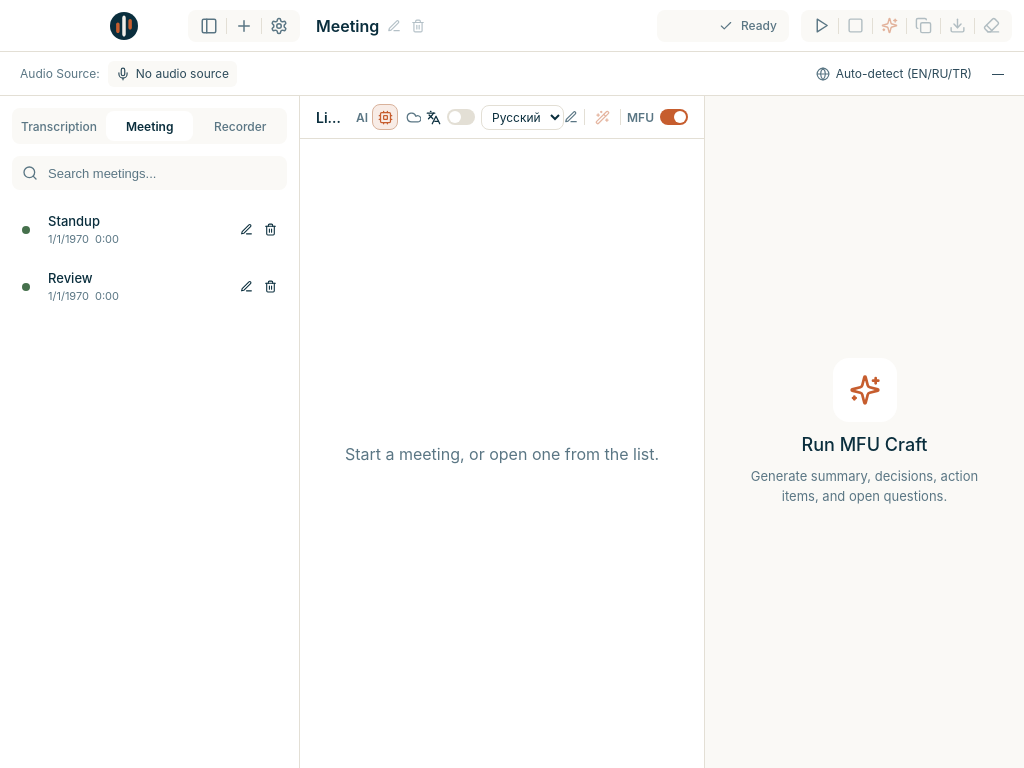
Test case: StreamingView › ignores a late automatic-open error after a manual selection succeeds
Click the button with aria-label "Open Review": (132, 286) [42,269,223,304]
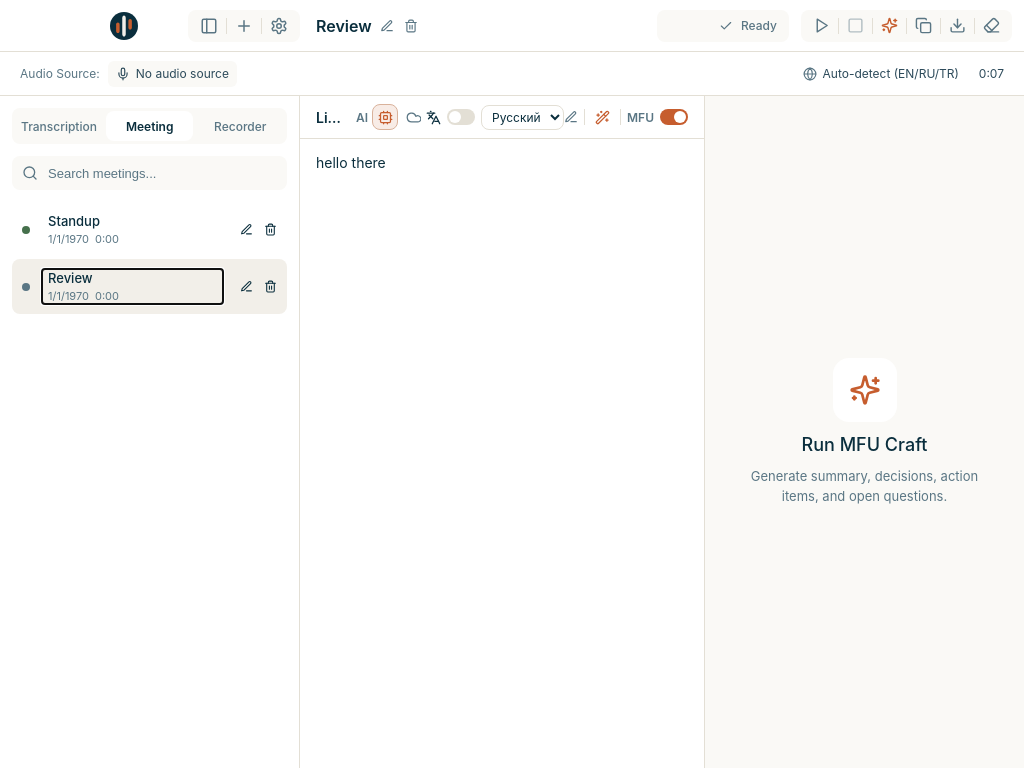
Expected: the heading "Review" is shown, [316,16,372,36]
